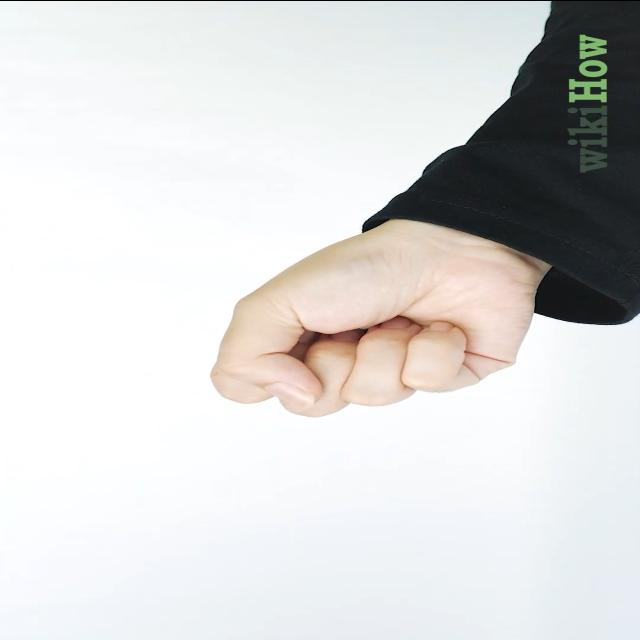Rock: (204, 229, 542, 417)
